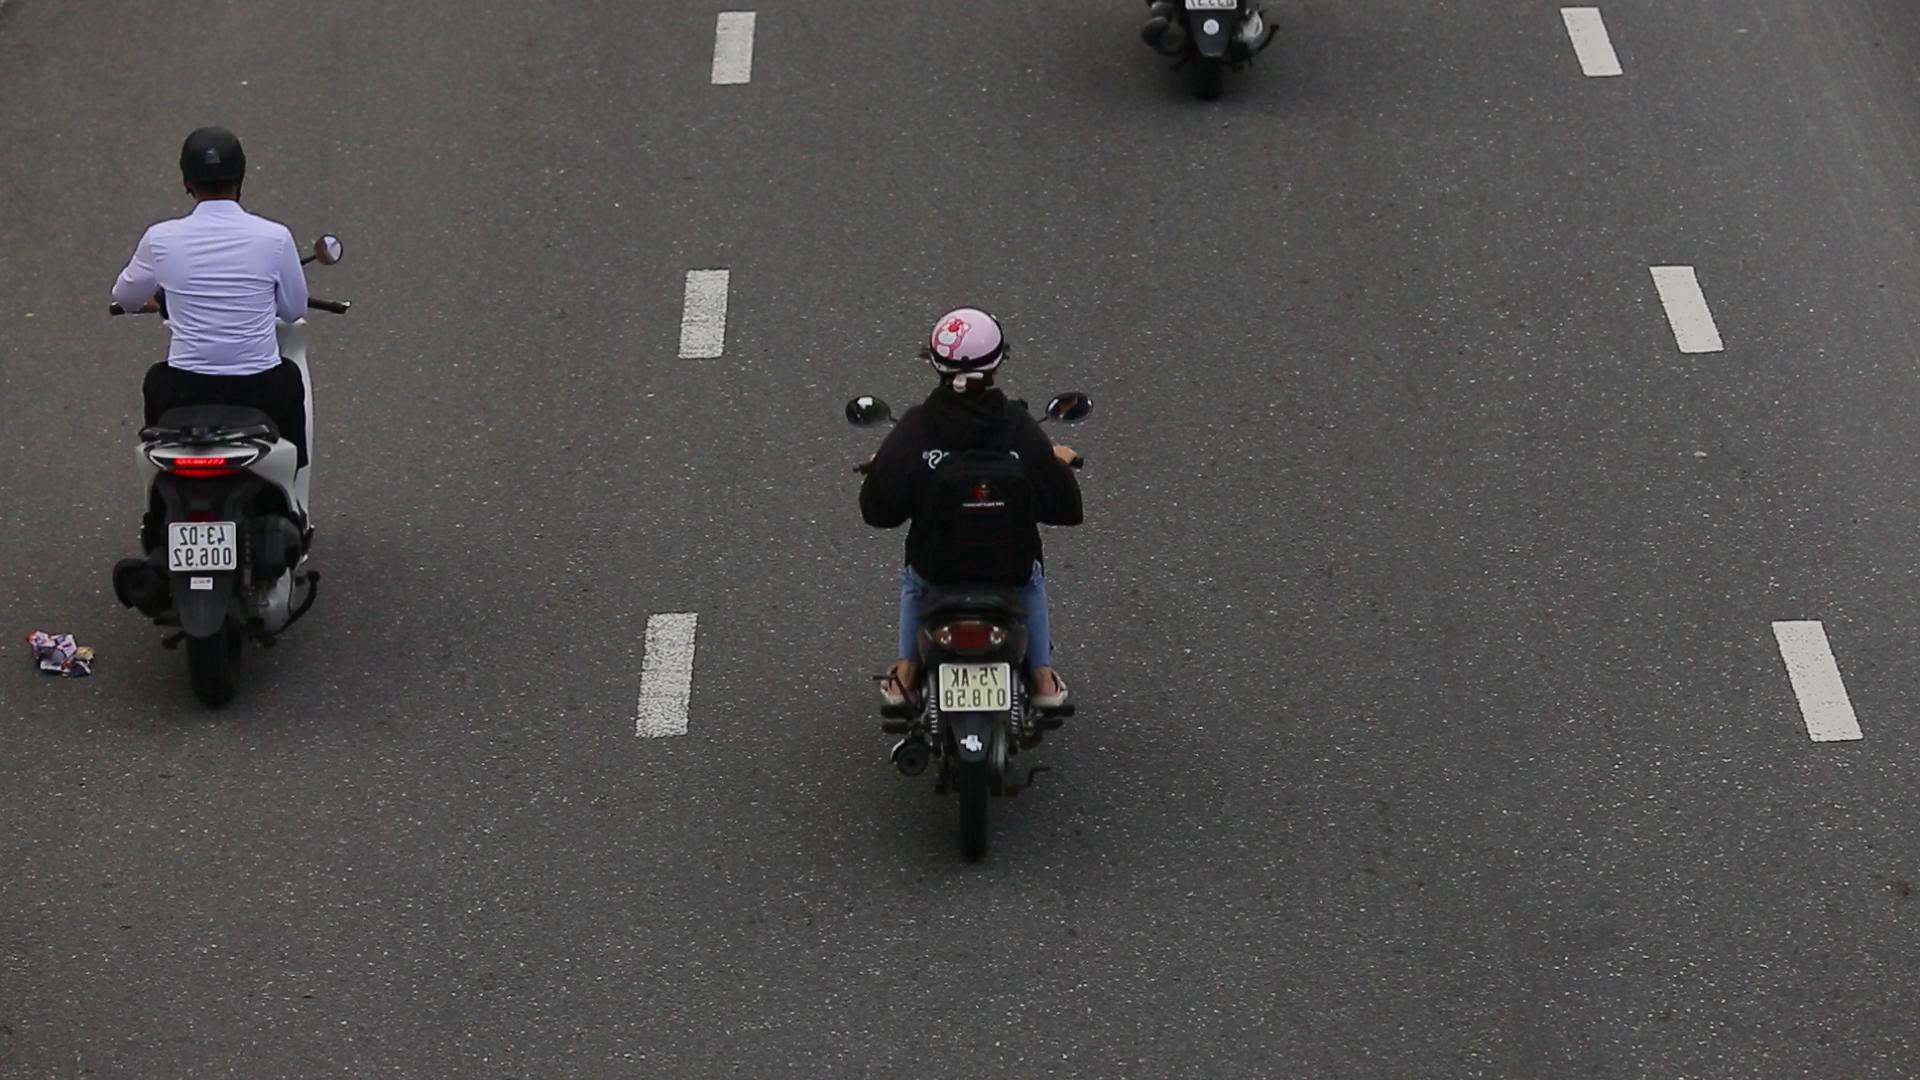motobike: (67, 100, 372, 735), (825, 280, 1121, 862)
